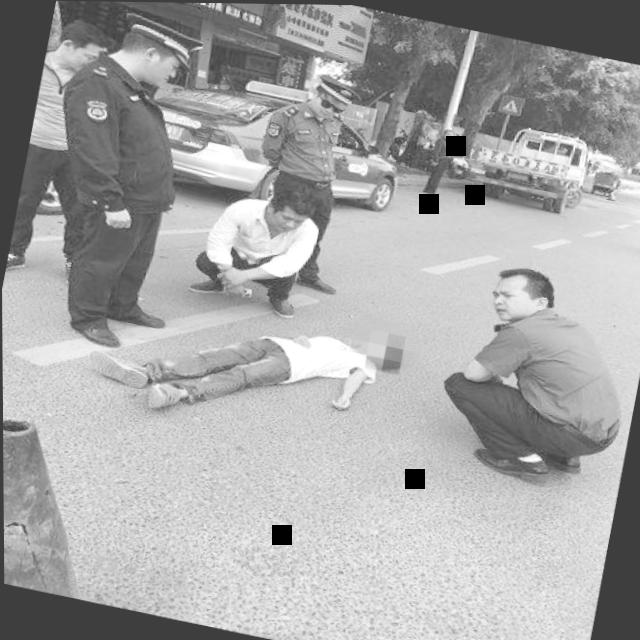Fall-Detected: (81, 264, 427, 462)
